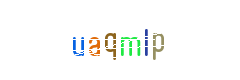A: (66, 0, 146, 80)
L: (89, 0, 169, 80)
M: (79, 0, 159, 80)
P: (102, 0, 182, 80)
Q: (71, 0, 151, 80)
U: (55, 0, 135, 80)
